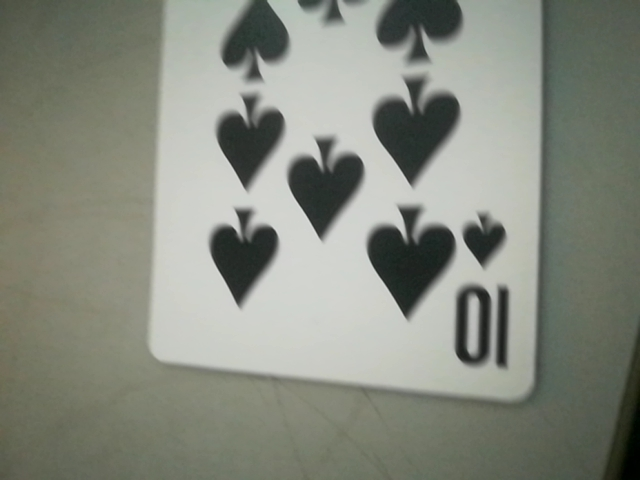ht 10: (442, 221, 517, 377)
